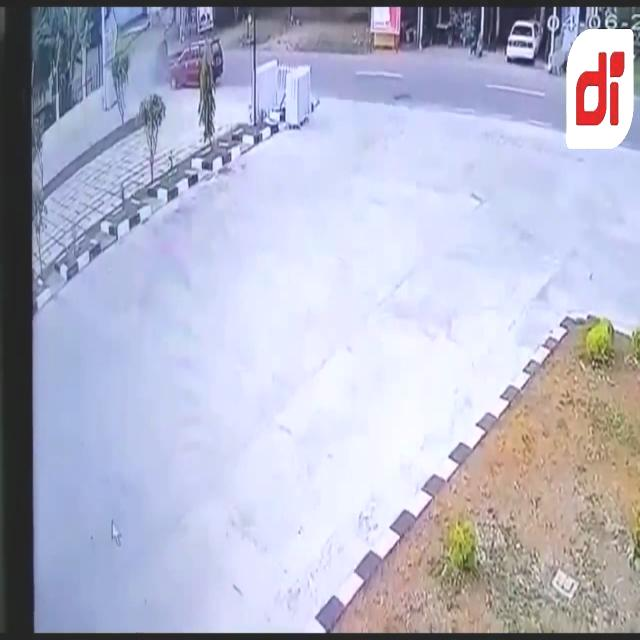accident: (130, 37, 224, 93)
